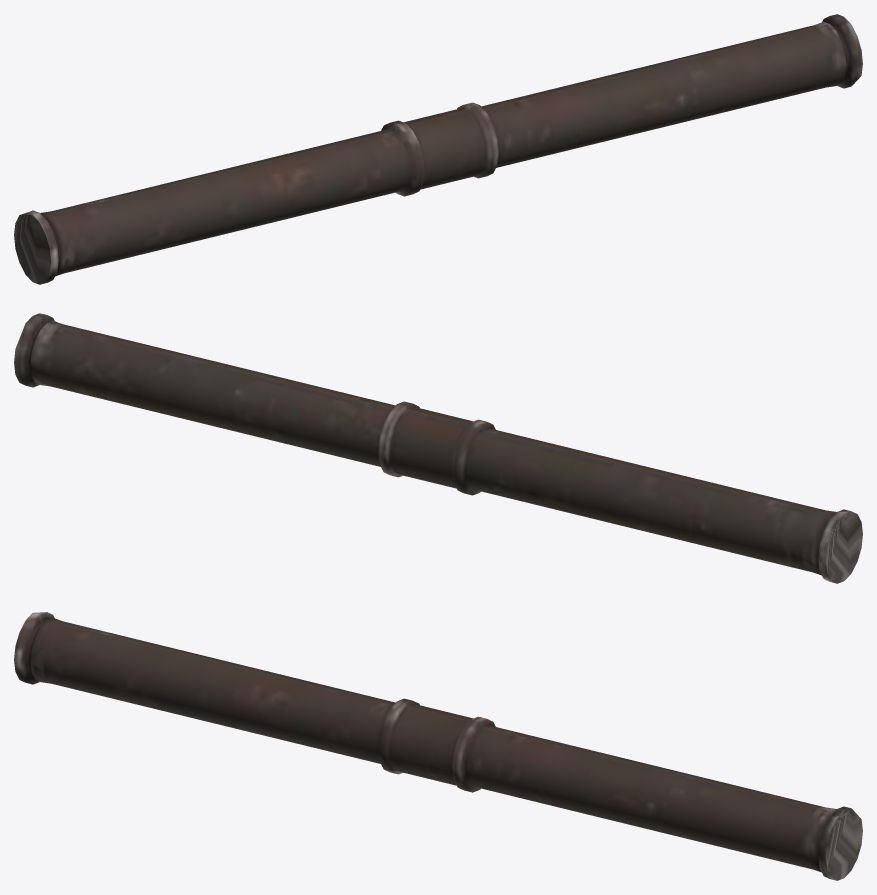
Rendered from pipe_c_300_a.glb.
The picture shows the model from 3 angles, top to bottom: view 1: azimuth 30°, elevation 25°; view 2: azimuth 150°, elevation 25°; view 3: azimuth 330°, elevation 25°; orthographic projection.
Parts seen in each view (by area): view 1: pipe_c_300_a; view 2: pipe_c_300_a; view 3: pipe_c_300_a.
Boxes of the visible parts, bbox=[...] form: pipe_c_300_a: bbox=[14, 14, 862, 284]; pipe_c_300_a: bbox=[14, 313, 862, 583]; pipe_c_300_a: bbox=[14, 612, 862, 880].
Size of the model in its own units: 3 by 0.2417 by 0.2417.
Materials: 1 (1 with a texture image).
